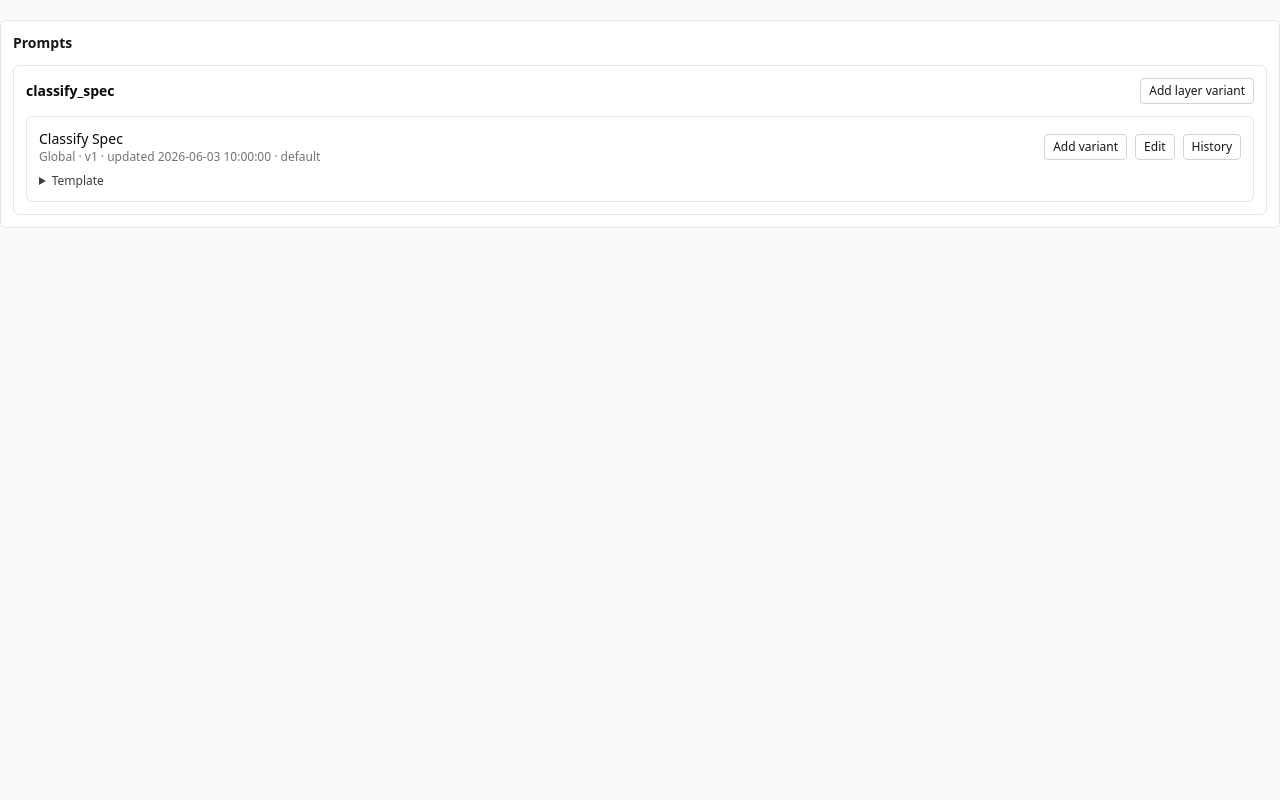
Test: PromptsPanel › adds a layer variant with a layer picker and layer_id payload
Click the button "Add layer variant" at (1197, 91), box [1140,78,1254,104]
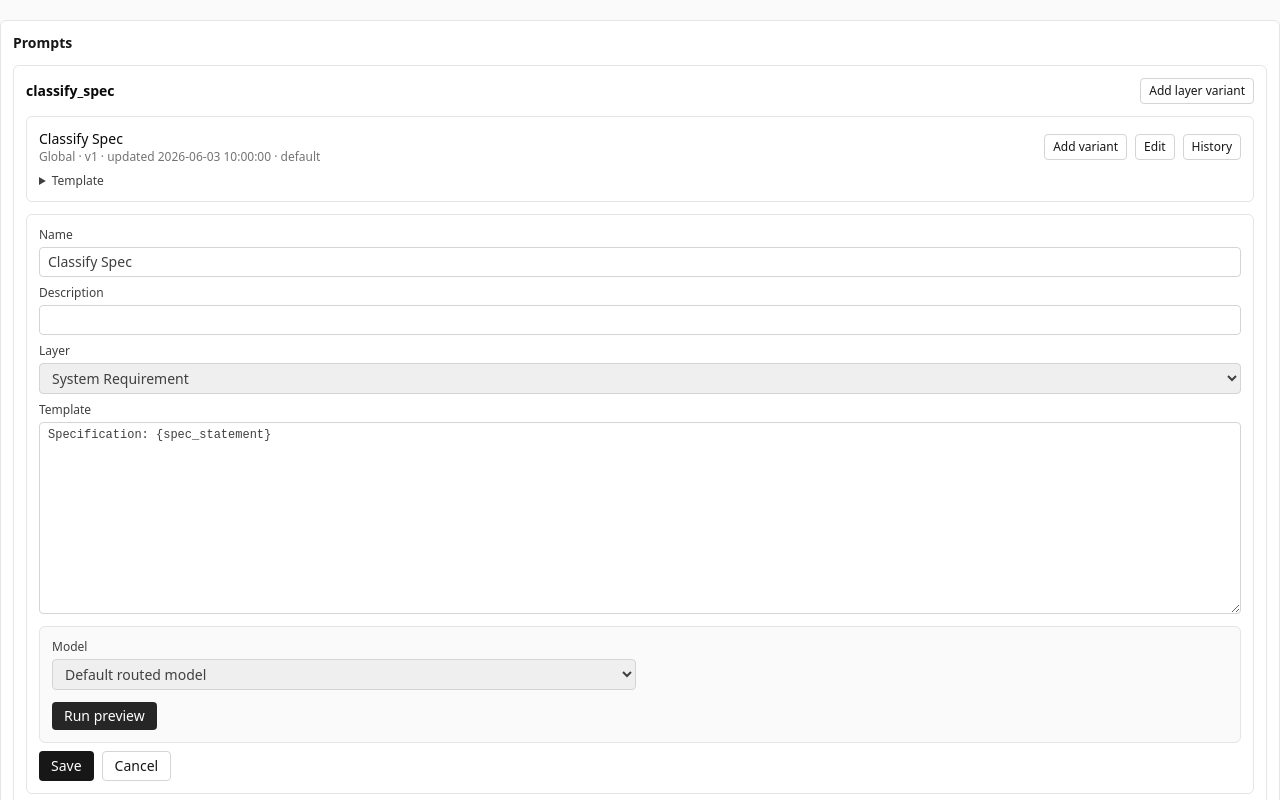
Select "System Requirement" in the dropdown labelled "Layer" at (640, 378), box [39,363,1241,394]
Click the button "Save" at (66, 766), box [39,751,94,781]
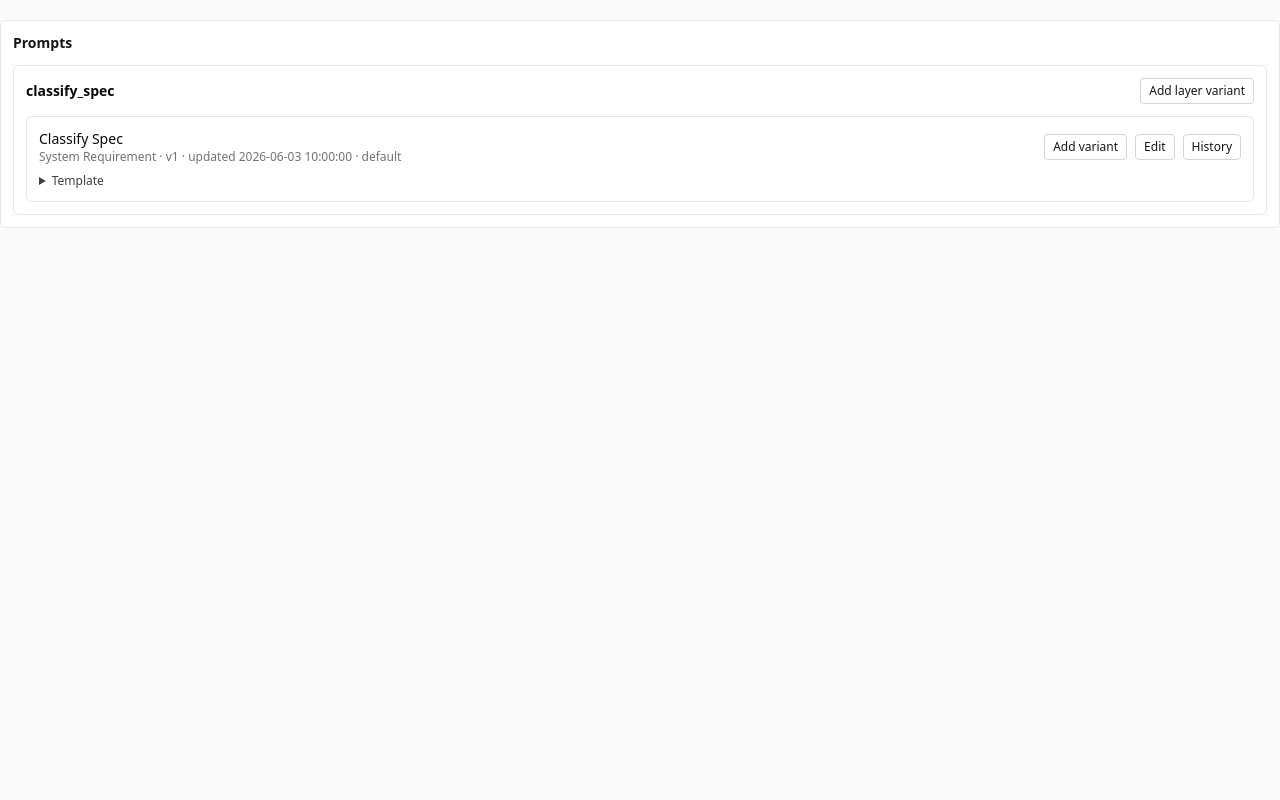
Expected: the text "System Requirement · v1" is shown, [39,149,401,165]
